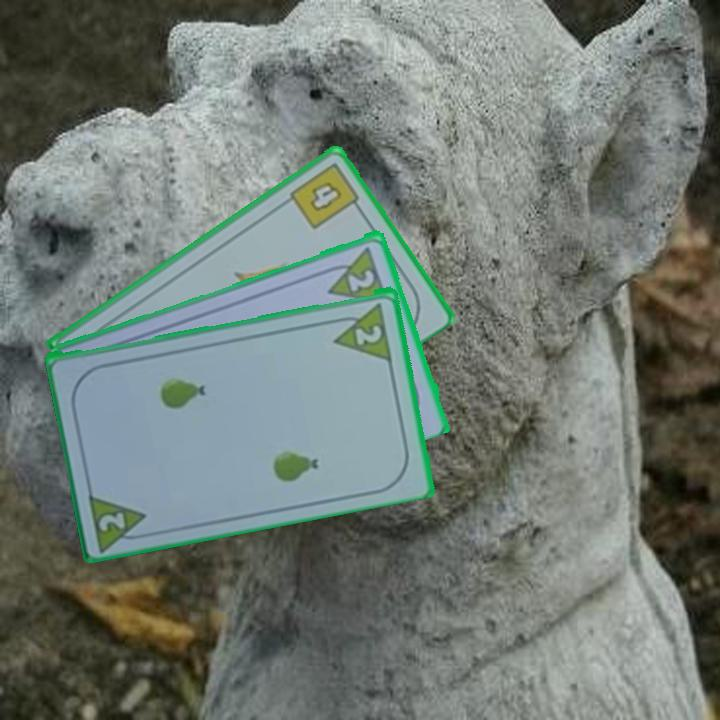2p: (318, 242, 391, 306), (95, 507, 129, 534), (352, 320, 385, 347)
4b: (286, 158, 366, 232)
